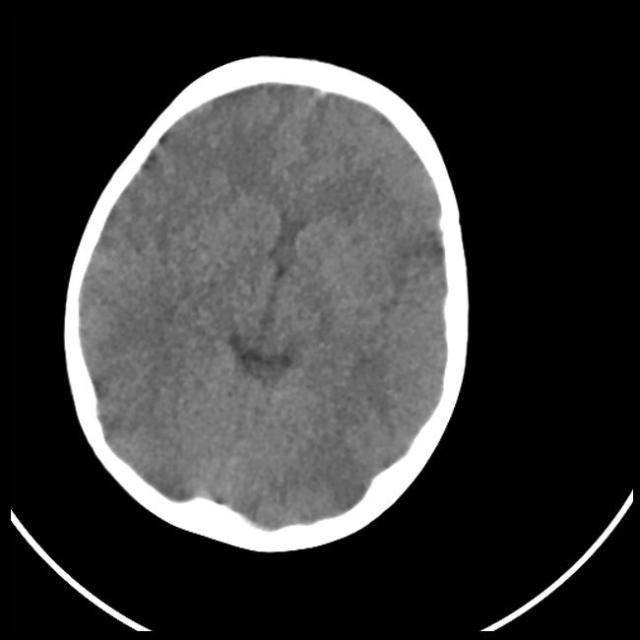lesion: (65, 63, 471, 546)
